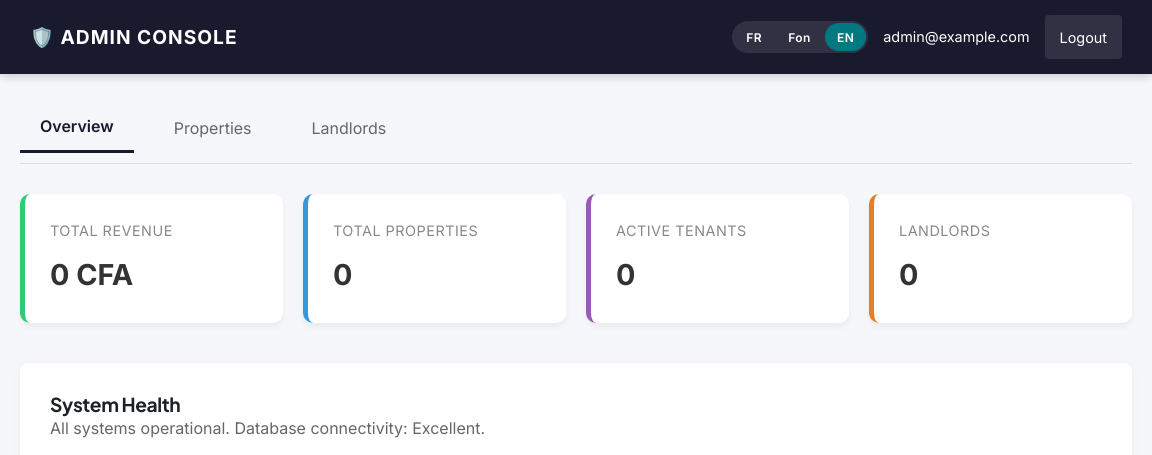
Test: AdminDashboard › shows empty landlords message when none exist
Click the text "Landlords" in the row of "Overview": (349, 128) x1=312 y1=118 x2=386 y2=138
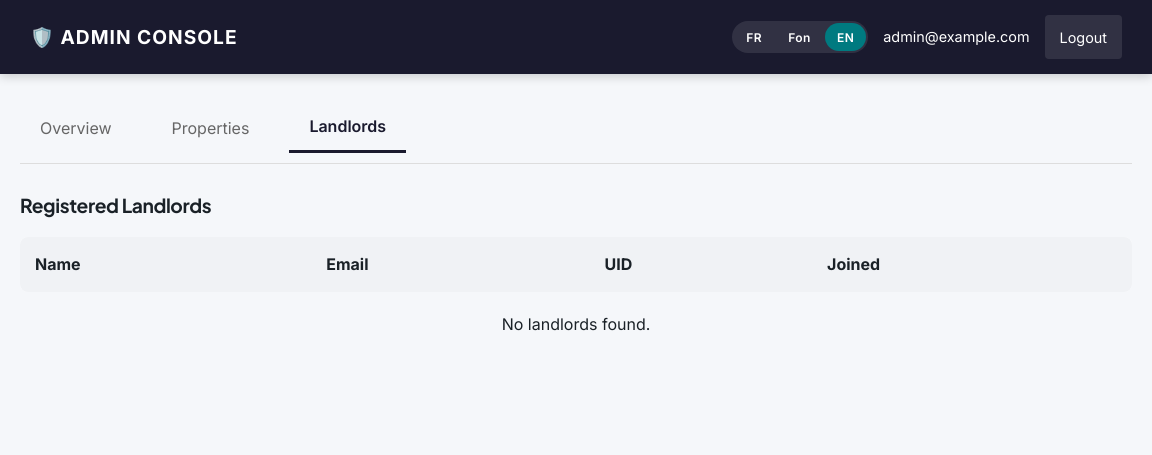
Expected: the text "No landlords found." is shown, x1=502 y1=314 x2=650 y2=334
